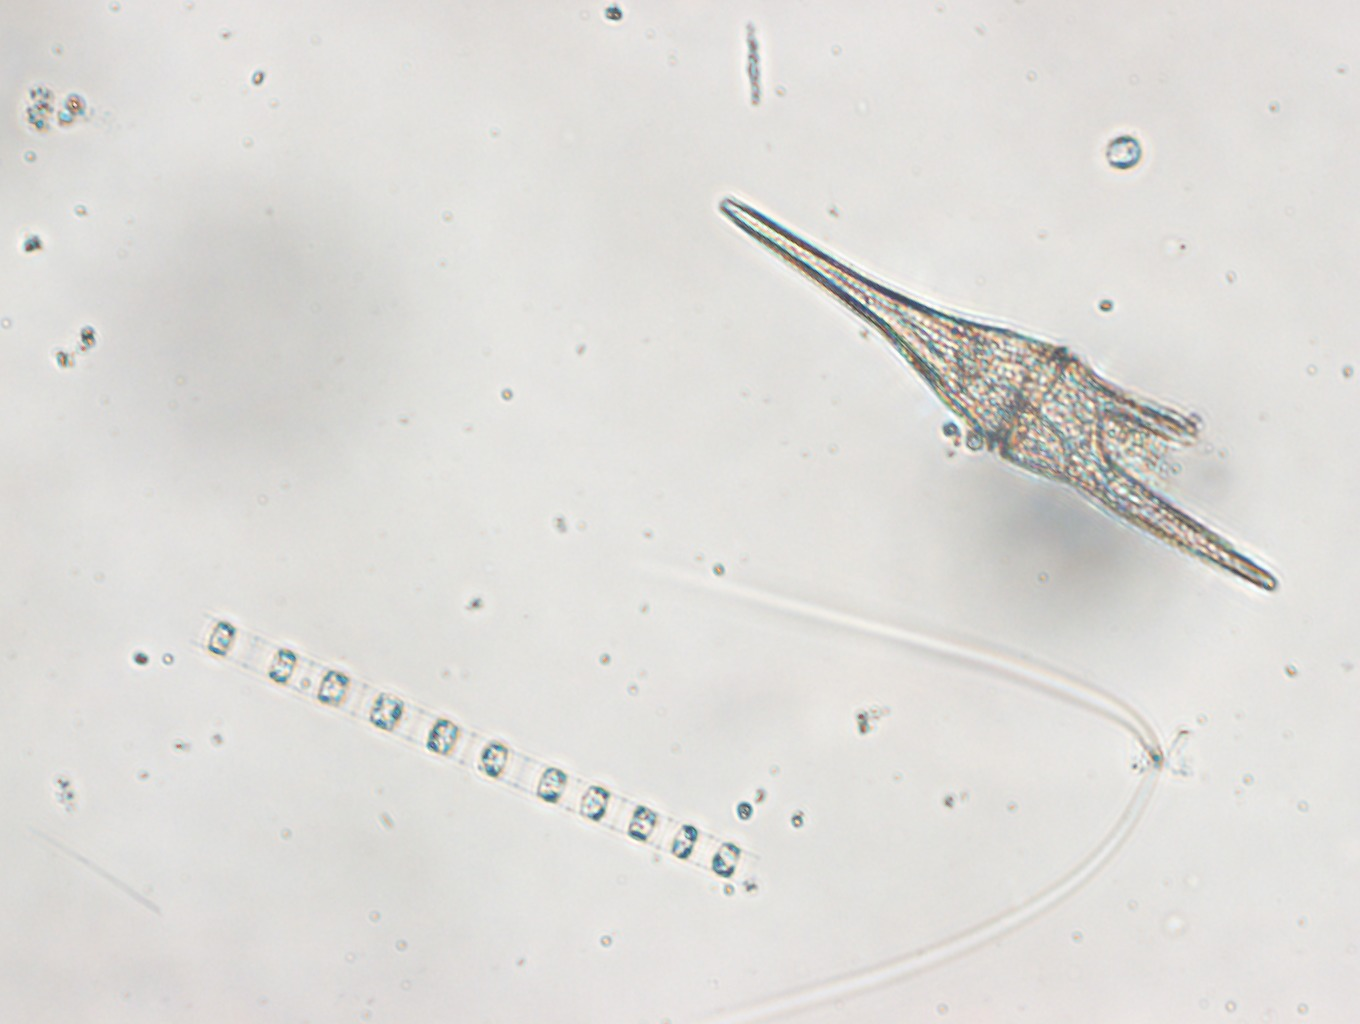ceratium furca: (712, 184, 1280, 593)
skeletonema: (187, 611, 744, 885)
